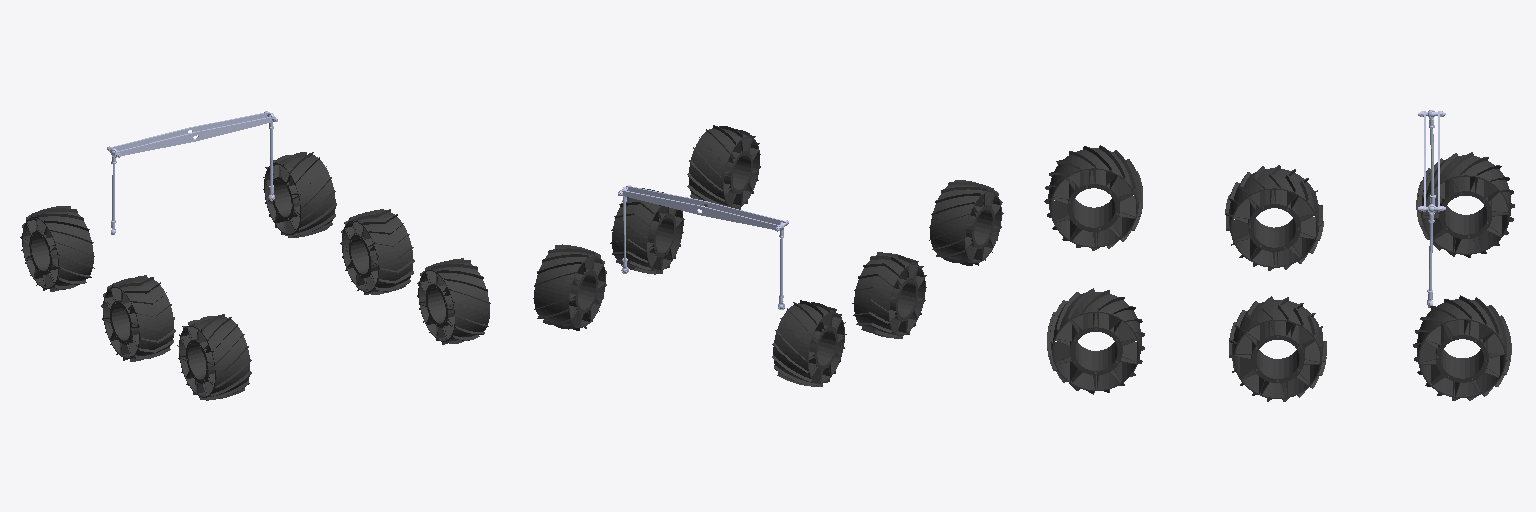
--- What the picture shows (computed from the rendered views, not written in the file) ---
The picture shows the robot from 3 angles, left to right: view 1: azimuth 30°, elevation 25°; view 2: azimuth 150°, elevation 25°; view 3: azimuth 270°, elevation 25°; orthographic projection.
Model roar_description with 18 links and 17 joints (17 continuous), rooted at Rover_base_link, posed all joints at 0.
Links seen in each view (by area): view 1: Wheel_LHS_Middle, Wheel_RHS_Back, Wheel_LHS_Front, Wheel_RHS_Front, Wheel_RHS_Middle, Wheel_LHS_Back, Differential_Bar; view 2: Wheel_RHS_Middle, Wheel_LHS_Back, Wheel_RHS_Front, Wheel_RHS_Back, Wheel_LHS_Front, Wheel_LHS_Middle, Differential_Bar; view 3: Wheel_LHS_Back, Wheel_RHS_Front, Wheel_LHS_Front, Wheel_LHS_Middle, Wheel_RHS_Middle, Wheel_RHS_Back, Differential_Bar.
Link boxes in pixels (x1,y1,x2,y2): Wheel_LHS_Middle: (340, 209, 414, 294); Wheel_RHS_Back: (20, 206, 94, 291); Wheel_LHS_Front: (417, 258, 490, 344); Wheel_RHS_Front: (177, 314, 251, 400); Wheel_RHS_Middle: (101, 275, 175, 361); Wheel_LHS_Back: (263, 152, 336, 237); Differential_Bar: (107, 111, 277, 157); Wheel_RHS_Middle: (852, 252, 926, 338); Wheel_LHS_Back: (533, 244, 606, 330); Wheel_RHS_Front: (929, 180, 1003, 265); Wheel_RHS_Back: (772, 300, 846, 386); Wheel_LHS_Front: (687, 125, 760, 209); Wheel_LHS_Middle: (610, 188, 684, 274); Differential_Bar: (618, 185, 788, 231); Wheel_LHS_Back: (1413, 295, 1511, 400); Wheel_RHS_Front: (1044, 145, 1142, 250); Wheel_LHS_Front: (1047, 288, 1144, 394); Wheel_LHS_Middle: (1229, 296, 1326, 401); Wheel_RHS_Middle: (1225, 165, 1323, 270); Wheel_RHS_Back: (1416, 152, 1514, 257); Differential_Bar: (1418, 111, 1445, 211).
Bounding box of the posed robot: 0.95 × 1.19 × 0.4918 m (x, y, z).
Meshes: 18 distinct files referenced, 13 mesh visuals loaded (13 binary STL); not drawn: 5 (reference not matched to a file when rendering).

robot.urdf — roar_description:
<?xml version="1.0" encoding="utf-8"?>
<!-- This URDF was automatically created by SolidWorks to URDF Exporter! Originally created by Stephen Brawner ([email redacted]) 
     Commit Version: 1.6.0-4-g7f85cfe  Build Version: 1.6.7995.38578
     For more information, please see http://wiki.ros.org/sw_urdf_exporter -->
<robot
  name="roar_description">
  <link
    name="Rover_base_link">
    <inertial>
      <origin
        xyz="-0.10329 -0.67716 0.33377"
        rpy="0 0 0" />
      <mass
        value="8.6832" />
      <inertia
        ixx="0.030287"
        ixy="-4.3566E-07"
        ixz="5.083E-08"
        iyy="0.029753"
        iyz="-0.00013063"
        izz="0.046393" />
    </inertial>
    <visual>
      <origin
        xyz="0 0 0"
        rpy="0 0 0" />
      <geometry>
        <mesh
          filename="package://roar_description/meshes/Rover_base_link.STL" />
      </geometry>
      <material
        name="">
        <color
          rgba="0.79216 0.81961 0.93333 1" />
      </material>
    </visual>
    <collision>
      <origin
        xyz="0 0 0"
        rpy="0 0 0" />
      <geometry>
        <mesh
          filename="package://roar_description/meshes/Rover_base_link.STL" />
      </geometry>
    </collision>
  </link>
  <link
    name="Rocker_RHS">
    <inertial>
      <origin
        xyz="-0.11035 -0.23779 -0.30847"
        rpy="0 0 0" />
      <mass
        value="1.8356" />
      <inertia
        ixx="0.004813"
        ixy="-4.6993E-05"
        ixz="-6.6289E-05"
        iyy="0.004275"
        iyz="-0.0011198"
        izz="0.0033199" />
    </inertial>
    <visual>
      <origin
        xyz="0 0 0"
        rpy="0 0 0" />
      <geometry>
        <mesh
          filename="package://roar_description/meshes/Rocker_RHS.STL" />
      </geometry>
      <material
        name="">
        <color
          rgba="0.79216 0.81961 0.93333 1" />
      </material>
    </visual>
    <collision>
      <origin
        xyz="0 0 0"
        rpy="0 0 0" />
      <geometry>
        <mesh
          filename="package://roar_description/meshes/Rocker_RHS.STL" />
      </geometry>
    </collision>
  </link>
  <joint
    name="Rocker_RHS_Joint"
    type="continuous">
    <origin
      xyz="-0.342128461708218 -0.748790527828184 0.328310051672545"
      rpy="1.58951247696815 0 0" />
    <parent
      link="Rover_base_link" />
    <child
      link="Rocker_RHS" />
    <axis
      xyz="1 0 0" />
    <limit
      lower="0"
      upper="0"
      effort="0"
      velocity="0" />
  </joint>
  <link
    name="Bogie_RHS">
    <inertial>
      <origin
        xyz="-0.12264709570478 -0.144766356668322 -0.00068545811134868"
        rpy="0 0 0" />
      <mass
        value="2.78385815952173" />
      <inertia
        ixx="0.00412564975619093"
        ixy="-9.32013111197439E-05"
        ixz="3.17047992982083E-07"
        iyy="0.00484283542847481"
        iyz="-0.000108703389871375"
        izz="0.00442726364411168" />
    </inertial>
    <visual>
      <origin
        xyz="0 0 0"
        rpy="0 0 0" />
      <geometry>
        <mesh
          filename="package://roar_description/meshes/Bogie_RHS.STL" />
      </geometry>
      <material
        name="">
        <color
          rgba="0.792156862745098 0.819607843137255 0.933333333333333 1" />
      </material>
    </visual>
    <collision>
      <origin
        xyz="0 0 0"
        rpy="0 0 0" />
      <geometry>
        <mesh
          filename="package://roar_description/meshes/Bogie_RHS.STL" />
      </geometry>
    </collision>
  </link>
  <joint
    name="Bogie_RHS_Joint"
    type="continuous">
    <origin
      xyz="-0.00465000000000421 -0.160601402178419 0.229362572400977"
      rpy="-0.136323947065984 0 0" />
    <parent
      link="Rocker_RHS" />
    <child
      link="Bogie_RHS" />
    <axis
      xyz="1 0 0" />
  </joint>
  <link
    name="Wheel_RHS_Front">
    <inertial>
      <origin
        xyz="0.0010418 0.00096372 -0.060016"
        rpy="0 0 0" />
      <mass
        value="1.5517" />
      <inertia
        ixx="0.0080032"
        ixy="1.1362E-16"
        ixz="-1.0017E-16"
        iyy="0.0080032"
        iyz="-1.0971E-10"
        izz="0.012594" />
    </inertial>
    <visual>
      <origin
        xyz="0 0 0"
        rpy="0 0 0" />
      <geometry>
        <mesh
          filename="package://roar_description/meshes/Wheel_RHS_Front.STL" />
      </geometry>
      <material
        name="">
        <color
          rgba="0.29804 0.29804 0.29804 1" />
      </material>
    </visual>
    <collision>
      <origin
        xyz="0 0 0"
        rpy="0 0 0" />
      <geometry>
        <mesh
          filename="package://roar_description/meshes/Wheel_RHS_Front.STL" />
      </geometry>
    </collision>
  </link>
  <joint
    name="Wheel_RHS_Front_Joint"
    type="continuous">
    <origin
      xyz="-0.105834821721214 -0.159803934037528 0.22991891696867"
      rpy="1.5707963267949 0.139345075944249 1.5707963267949" />
    <parent
      link="Bogie_RHS" />
    <child
      link="Wheel_RHS_Front" />
    <axis
      xyz="0 0 1" />
  </joint>
  <link
    name="Wheel_RHS_Middle">
    <inertial>
      <origin
        xyz="0.00154008863810107 0.000259883964275121 0.0600063600245663"
        rpy="0 0 0" />
      <mass
        value="1.5976653768916" />
      <inertia
        ixx="0.00836783341696577"
        ixy="5.65953534037433E-17"
        ixz="1.52747433337933E-16"
        iyy="0.0083677519799852"
        iyz="-6.22457043092441E-14"
        izz="0.0132446797996255" />
    </inertial>
    <visual>
      <origin
        xyz="0 0 0"
        rpy="0 0 0" />
      <geometry>
        <mesh
          filename="package://roar_description/meshes/Wheel_RHS_Middle.STL" />
      </geometry>
      <material
        name="">
        <color
          rgba="0.298039215686275 0.298039215686275 0.298039215686275 1" />
      </material>
    </visual>
    <collision>
      <origin
        xyz="0 0 0"
        rpy="0 0 0" />
      <geometry>
        <mesh
          filename="package://roar_description/meshes/Wheel_RHS_Middle.STL" />
      </geometry>
    </collision>
  </link>
  <joint
    name="Wheel_RHS_Middle_Joint"
    type="continuous">
    <origin
      xyz="-0.105843639709443 -0.161396945230976 -0.228803478522851"
      rpy="-1.5707963267949 -1.09872213581824 1.5707963267949" />
    <parent
      link="Bogie_RHS" />
    <child
      link="Wheel_RHS_Middle" />
    <axis
      xyz="0 0 1" />
  </joint>
  <link
    name="Wheel_RHS_Back">
    <inertial>
      <origin
        xyz="-0.00097567 0.0028304 -0.061734"
        rpy="0 0 0" />
      <mass
        value="1.5517" />
      <inertia
        ixx="0.0080033"
        ixy="0"
        ixz="-2.5005E-17"
        iyy="0.0080033"
        iyz="2.6947E-12"
        izz="0.012593" />
    </inertial>
    <visual>
      <origin
        xyz="0 0 0"
        rpy="0 0 0" />
      <geometry>
        <mesh
          filename="package://roar_description/meshes/Wheel_RHS_Back.STL" />
      </geometry>
      <material
        name="">
        <color
          rgba="0.29804 0.29804 0.29804 1" />
      </material>
    </visual>
    <collision>
      <origin
        xyz="0 0 0"
        rpy="0 0 0" />
      <geometry>
        <mesh
          filename="package://roar_description/meshes/Wheel_RHS_Back.STL" />
      </geometry>
    </collision>
  </link>
  <joint
    name="Wheel_RHS_Back_Joint"
    type="continuous">
    <origin
      xyz="-0.10876557361651 -0.321202810209238 -0.4587251531602"
      rpy="1.5707963267949 -0.655379363186682 1.5707963267949" />
    <parent
      link="Rocker_RHS" />
    <child
      link="Wheel_RHS_Back" />
    <axis
      xyz="0 0 1" />
  </joint>
  <link
    name="Differential_Ball_Lower_RHS">
    <inertial>
      <origin
        xyz="4.7129E-14 1.1152E-13 0.0066728"
        rpy="0 0 0" />
      <mass
        value="0.001389" />
      <inertia
        ixx="3.7675E-08"
        ixy="8.2718E-24"
        ixz="2.8561E-24"
        iyy="3.7675E-08"
        iyz="-1.8232E-24"
        izz="4.8965E-08" />
    </inertial>
    <visual>
      <origin
        xyz="0 0 0"
        rpy="0 0 0" />
      <geometry>
        <mesh
          filename="package://roar_description/meshes/Differential_Ball_Lower_RHS.STL" />
      </geometry>
      <material
        name="">
        <color
          rgba="0.79216 0.81961 0.93333 1" />
      </material>
    </visual>
    <collision>
      <origin
        xyz="0 0 0"
        rpy="0 0 0" />
      <geometry>
        <mesh
          filename="package://roar_description/meshes/Differential_Ball_Lower_RHS.STL" />
      </geometry>
    </collision>
  </link>
  <joint
    name="Differential_Ball_Lower_RHS_Joint"
    type="continuous">
    <origin
      xyz="-0.0202650110148073 -0.266050575961641 -0.375256033969497"
      rpy="-1.5707963267949 -0.89328811340906 1.5707963267949" />
    <parent
      link="Rocker_RHS" />
    <child
      link="Differential_Ball_Lower_RHS" />
    <axis
      xyz="0 0 1" />
  </joint>
  <link
    name="Rocker_LHS">
    <inertial>
      <origin
        xyz="0.110358958180568 -0.234165151998837 -0.311291711005079"
        rpy="0 0 0" />
      <mass
        value="1.83540597206276" />
      <inertia
        ixx="0.00481293371965366"
        ixy="4.62221873968512E-05"
        ixz="6.68295248794854E-05"
        iyy="0.0043011240898039"
        iyz="-0.00110832946556624"
        izz="0.00329380901891871" />
    </inertial>
    <visual>
      <origin
        xyz="0 0 0"
        rpy="0 0 0" />
      <geometry>
        <mesh
          filename="package://roar_description/meshes/Rocker_LHS.STL" />
      </geometry>
      <material
        name="">
        <color
          rgba="0.792156862745098 0.819607843137255 0.933333333333333 1" />
      </material>
    </visual>
    <collision>
      <origin
        xyz="0 0 0"
        rpy="0 0 0" />
      <geometry>
        <mesh
          filename="package://roar_description/meshes/Rocker_LHS.STL" />
      </geometry>
    </collision>
  </link>
  <joint
    name="Rocker_LHS_Joint"
    type="continuous">
    <origin
      xyz="0.146871538291774 -0.74879052782817 0.328310051672578"
      rpy="1.55091525568631 0 0" />
    <parent
      link="Rover_base_link" />
    <child
      link="Rocker_LHS" />
    <axis
      xyz="1 0 0" />
    <limit
      lower="0"
      upper="0"
      effort="0"
      velocity="0" />
    <mimic
      joint="Rocker_RHS_Joint"
      multiplier="-1"
      offset="0" />
  </joint>
  <link
    name="Bogie_LHS">
    <inertial>
      <origin
        xyz="0.124529288562566 -0.149452173622745 -0.000603490811736385"
        rpy="0 0 0" />
      <mass
        value="2.70951335930722" />
      <inertia
        ixx="0.00386569944297285"
        ixy="9.32225081974001E-05"
        ixz="-3.30364142001628E-07"
        iyy="0.00465186552386934"
        iyz="-1.18116492207253E-06"
        izz="0.0043128828389626" />
    </inertial>
    <visual>
      <origin
        xyz="0 0 0"
        rpy="0 0 0" />
      <geometry>
        <mesh
          filename="package://roar_description/meshes/Bogie_LHS.STL" />
      </geometry>
      <material
        name="">
        <color
          rgba="0.792156862745098 0.819607843137255 0.933333333333333 1" />
      </material>
    </visual>
    <collision>
      <origin
        xyz="0 0 0"
        rpy="0 0 0" />
      <geometry>
        <mesh
          filename="package://roar_description/meshes/Bogie_LHS.STL" />
      </geometry>
    </collision>
  </link>
  <joint
    name="Bogie_LHS_Joint"
    type="continuous">
    <origin
      xyz="0.00464999999999113 -0.160601402178327 0.229362572400932"
      rpy="-0.0249150726543989 0 0" />
    <parent
      link="Rocker_LHS" />
    <child
      link="Bogie_LHS" />
    <axis
      xyz="1 0 0" />
  </joint>
  <link
    name="Wheel_LHS_Front">
    <inertial>
      <origin
        xyz="-0.000918933167155078 0.00166662816846197 0.0617344149234745"
        rpy="0 0 0" />
      <mass
        value="1.55166626304692" />
      <inertia
        ixx="0.00800333368012849"
        ixy="5.09855106670536E-17"
        ixz="-6.68841717194124E-17"
        iyy="0.00800325326915811"
        iyz="2.69482289387701E-12"
        izz="0.0125934306153829" />
    </inertial>
    <visual>
      <origin
        xyz="0 0 0"
        rpy="0 0 0" />
      <geometry>
        <mesh
          filename="package://roar_description/meshes/Wheel_LHS_Front.STL" />
      </geometry>
      <material
        name="">
        <color
          rgba="0.298039215686275 0.298039215686275 0.298039215686275 1" />
      </material>
    </visual>
    <collision>
      <origin
        xyz="0 0 0"
        rpy="0 0 0" />
      <geometry>
        <mesh
          filename="package://roar_description/meshes/Wheel_LHS_Front.STL" />
      </geometry>
    </collision>
  </link>
  <joint
    name="Wheel_LHS_Front_Joint"
    type="continuous">
    <origin
      xyz="0.104115573616492 -0.159803934036338 0.22991891696985"
      rpy="-1.5707963267949 -1.52600018303191 -1.5707963267949" />
    <parent
      link="Bogie_LHS" />
    <child
      link="Wheel_LHS_Front" />
    <axis
      xyz="0 0 1" />
  </joint>
  <link
    name="Wheel_LHS_Middle">
    <inertial>
      <origin
        xyz="-0.0016383 -0.00019918 -0.060006"
        rpy="0 0 0" />
      <mass
        value="1.5977" />
      <inertia
        ixx="0.0083678"
        ixy="6.5052E-19"
        ixz="-1.2837E-16"
        iyy="0.0083678"
        iyz="-6.1838E-14"
        izz="0.013245" />
    </inertial>
    <visual>
      <origin
        xyz="0 0 0"
        rpy="0 0 0" />
      <geometry>
        <mesh
          filename="package://roar_description/meshes/Wheel_LHS_Middle.STL" />
      </geometry>
      <material
        name="">
        <color
          rgba="0.29804 0.29804 0.29804 1" />
      </material>
    </visual>
    <collision>
      <origin
        xyz="0 0 0"
        rpy="0 0 0" />
      <geometry>
        <mesh
          filename="package://roar_description/meshes/Wheel_LHS_Middle.STL" />
      </geometry>
    </collision>
  </link>
  <joint
    name="Wheel_LHS_Middle_Joint"
    type="continuous">
    <origin
      xyz="0.105843838897974 -0.16139694523254 -0.228803478521815"
      rpy="-1.5707963267949 -0.571115560263607 1.5707963267949" />
    <parent
      link="Bogie_LHS" />
    <child
      link="Wheel_LHS_Middle" />
    <axis
      xyz="0 0 1" />
  </joint>
  <link
    name="Wheel_LHS_Back">
    <inertial>
      <origin
        xyz="0.00288644549271561 -0.00187235731581453 -0.0600156448463666"
        rpy="0 0 0" />
      <mass
        value="1.55167119278223" />
      <inertia
        ixx="0.00800323403290189"
        ixy="4.00070601647151E-16"
        ixz="5.08002380718721E-16"
        iyy="0.0080031536218179"
        iyz="-1.09712644551399E-10"
        izz="0.012593506982443" />
    </inertial>
    <visual>
      <origin
        xyz="0 0 0"
        rpy="0 0 0" />
      <geometry>
        <mesh
          filename="package://roar_description/meshes/Wheel_LHS_Back.STL" />
      </geometry>
      <material
        name="">
        <color
          rgba="0.298039215686275 0.298039215686275 0.298039215686275 1" />
      </material>
    </visual>
    <collision>
      <origin
        xyz="0 0 0"
        rpy="0 0 0" />
      <geometry>
        <mesh
          filename="package://roar_description/meshes/Wheel_LHS_Back.STL" />
      </geometry>
    </collision>
  </link>
  <joint
    name="Wheel_LHS_Back_Joint"
    type="continuous">
    <origin
      xyz="0.110484821721209 -0.321202810209241 -0.458725153160208"
      rpy="-1.5707963267949 1.10519374991265 1.5707963267949" />
    <parent
      link="Rocker_LHS" />
    <child
      link="Wheel_LHS_Back" />
    <axis
      xyz="0 0 1" />
  </joint>
  <link
    name="Differential_Ball_Lower_LHS">
    <inertial>
      <origin
        xyz="-6.44484465794903E-14 8.88317197578203E-14 -0.00667281115870977"
        rpy="0 0 0" />
      <mass
        value="0.0013890059261901" />
      <inertia
        ixx="3.76748983672573E-08"
        ixy="-1.65436122510606E-24"
        ixz="5.8838619724424E-25"
        iyy="3.76748983672573E-08"
        iyz="-3.41761299081095E-25"
        izz="4.89650334337632E-08" />
    </inertial>
    <visual>
      <origin
        xyz="0 0 0"
        rpy="0 0 0" />
      <geometry>
        <mesh
          filename="package://roar_description/meshes/Differential_Ball_Lower_LHS.STL" />
      </geometry>
      <material
        name="">
        <color
          rgba="0.792156862745098 0.819607843137255 0.933333333333333 1" />
      </material>
    </visual>
    <collision>
      <origin
        xyz="0 0 0"
        rpy="0 0 0" />
      <geometry>
        <mesh
          filename="package://roar_description/meshes/Differential_Ball_Lower_LHS.STL" />
      </geometry>
    </collision>
  </link>
  <joint
    name="Differential_Ball_Lower_LHS_Joint"
    type="continuous">
    <origin
      xyz="0.0201543776825805 -0.26163078737498 -0.378350804277686"
      rpy="1.5707963267949 -1.38512229147901 -1.5707963267949" />
    <parent
      link="Rocker_LHS" />
    <child
      link="Differential_Ball_Lower_LHS" />
    <axis
      xyz="0 0 1" />
  </joint>
  <link
    name="Differential_Bar">
    <inertial>
      <origin
        xyz="-7.57005569340663E-13 5.28331267624083E-11 0.0350000000000001"
        rpy="0 0 0" />
      <mass
        value="0.135555879271076" />
      <inertia
        ixx="9.44653320159656E-06"
        ixy="-2.14055272019482E-05"
        ixz="4.05288563062036E-20"
        iyy="0.00263596000016183"
        iyz="1.65610283725437E-18"
        izz="0.00263904285494195" />
    </inertial>
    <visual>
      <origin
        xyz="0 0 0"
        rpy="0 0 0" />
      <geometry>
        <mesh
          filename="package://roar_description/meshes/Differential_Bar.STL" />
      </geometry>
      <material
        name="">
        <color
          rgba="0.792156862745098 0.819607843137255 0.933333333333333 1" />
      </material>
    </visual>
    <collision>
      <origin
        xyz="0 0 0"
        rpy="0 0 0" />
      <geometry>
        <mesh
          filename="package://roar_description/meshes/Differential_Bar.STL" />
      </geometry>
    </collision>
  </link>
  <joint
    name="Differential_Bar_Joint"
    type="continuous">
    <origin
      xyz="-0.09762846170823 -0.336980527828184 0.328245301477628"
      rpy="1.5707963267949 0.0268075606727418 0" />
    <parent
      link="Rover_base_link" />
    <child
      link="Differential_Bar" />
    <axis
      xyz="0 0 1" />
  </joint>
  <link
    name="Differential_Ball_Upper_LHS">
    <inertial>
      <origin
        xyz="-3.20576898360514E-14 -2.22044604925031E-14 0.00667281115870966"
        rpy="0 0 0" />
      <mass
        value="0.0013890059261901" />
      <inertia
        ixx="3.76748983672573E-08"
        ixy="-5.99705944100945E-24"
        ixz="5.76518140206913E-24"
        iyy="3.76748983672573E-08"
        iyz="-2.96971137301371E-24"
        izz="4.89650334337632E-08" />
    </inertial>
    <visual>
      <origin
        xyz="0 0 0"
        rpy="0 0 0" />
      <geometry>
        <mesh
          filename="package://roar_description/meshes/Differential_Ball_Upper_LHS.STL" />
      </geometry>
      <material
        name="">
        <color
          rgba="0.792156862745098 0.819607843137255 0.933333333333333 1" />
      </material>
    </visual>
    <collision>
      <origin
        xyz="0 0 0"
        rpy="0 0 0" />
      <geometry>
        <mesh
          filename="package://roar_description/meshes/Differential_Ball_Upper_LHS.STL" />
      </geometry>
    </collision>
  </link>
  <joint
    name="Differential_Ball_Upper_LHS_Joint"
    type="continuous">
    <origin
      xyz="0.271320990906475 0.00221106163328205 0.0283250000000001"
      rpy="0 0 -0.0317796979239119" />
    <parent
      link="Differential_Bar" />
    <child
      link="Differential_Ball_Upper_LHS" />
    <axis
      xyz="0 0 1" />
  </joint>
  <link
    name="Differential_Rod_LHS">
    <inertial>
      <origin
        xyz="-0.00454323574979903 -0.132162802826175 0.00237831038207131"
        rpy="0 0 0" />
      <mass
        value="0.01918380501633" />
      <inertia
        ixx="4.06781373946889E-05"
        ixy="1.43649262366471E-08"
        ixz="6.32888945509674E-09"
        iyy="4.18079212876761E-07"
        iyz="-7.46139977822265E-07"
        izz="4.06834280286997E-05" />
    </inertial>
    <visual>
      <origin
        xyz="0 0 0"
        rpy="0 0 0" />
      <geometry>
        <mesh
          filename="package://roar_description/meshes/Differential_Rod_LHS.STL" />
      </geometry>
      <material
        name="">
        <color
          rgba="0.792156862745098 0.819607843137255 0.933333333333333 1" />
      </material>
    </visual>
    <collision>
      <origin
        xyz="0 0 0"
        rpy="0 0 0" />
      <geometry>
        <mesh
          filename="package://roar_description/meshes/Differential_Rod_LHS.STL" />
      </geometry>
    </collision>
  </link>
  <joint
    name="Differential_Rod_LHS_To_Differential_Bar_Joint"
    type="continuous">
    <origin
      xyz="0 0 0"
      rpy="-0.0384204414035981 0.761514760331948 0.0447584714591076" />
    <parent
      link="Differential_Ball_Upper_LHS" />
    <child
      link="Differential_Rod_LHS" />
    <axis
      xyz="0.000361364375335417 -0.999828521547696 -0.0185147756004935" />
  </joint>
  <link
    name="Differential_Ball_Upper_RHS">
    <inertial>
      <origin
        xyz="0.00413056225431524 -0.00362334705600029 0.000142145411143546"
        rpy="0 0 0" />
      <mass
        value="0.0013890059261901" />
      <inertia
        ixx="3.76748983672572E-08"
        ixy="0"
        ixz="7.34040506304342E-25"
        iyy="3.76748983672572E-08"
        iyz="-1.01290373983968E-24"
        izz="4.89650334337632E-08" />
    </inertial>
    <visual>
      <origin
        xyz="0 0 0"
        rpy="0 0 0" />
      <geometry>
        <mesh
          filename="package://roar_description/meshes/Differential_Ball_Upper_RHS.STL" />
      </geometry>
      <material
        name="">
        <color
          rgba="0.792156862745098 0.819607843137255 0.933333333333333 1" />
      </material>
    </visual>
    <collision>
      <origin
        xyz="0 0 0"
        rpy="0 0 0" />
      <geometry>
        <mesh
          filename="package://roar_description/meshes/Differential_Ball_Upper_RHS.STL" />
      </geometry>
    </collision>
  </link>
  <joint
    name="Differential_Ball_Upper_RHS_Joint"
    type="continuous">
    <origin
      xyz="-0.271129466344517 -0.00770228251455707 0.0348556657475662"
      rpy="0 0 2.32573761589665" />
    <parent
      link="Differential_Bar" />
    <child
      link="Differential_Ball_Upper_RHS" />
    <axis
      xyz="0 0 1" />
  </joint>
  <link
    name="Differential_Rod_RHS">
    <inertial>
      <origin
        xyz="0.000143673404240707 -0.12648282008794 -0.00232787834320419"
        rpy="0 0 0" />
      <mass
        value="0.0191838051653016" />
      <inertia
        ixx="4.06781373929421E-05"
        ixy="1.43649088619321E-08"
        ixz="6.32889134687707E-09"
        iyy="4.18079213906288E-07"
        iyz="-7.46139960866484E-07"
        izz="4.06834280298205E-05" />
    </inertial>
    <visual>
      <origin
        xyz="0 0 0"
        rpy="0 0 0" />
      <geometry>
        <mesh
          filename="package://roar_description/meshes/Differential_Rod_RHS.STL" />
      </geometry>
      <material
        name="">
        <color
          rgba="0.792156862745098 0.819607843137255 0.933333333333333 1" />
      </material>
    </visual>
    <collision>
      <origin
        xyz="0 0 0"
        rpy="0 0 0" />
      <geometry>
        <mesh
          filename="package://roar_description/meshes/Differential_Rod_RHS.STL" />
      </geometry>
    </collision>
  </link>
  <joint
    name="Differential_Rod_RHS_To_Differential_Bar_Joint"
    type="continuous">
    <origin
      xyz="0 0 0"
      rpy="3.08690958798694 -1.20144396020161 0.875935706725357" />
    <parent
      link="Differential_Ball_Upper_RHS" />
    <child
      link="Differential_Rod_RHS" />
    <axis
      xyz="0.000361364374657969 -0.999828521547702 -0.0185147756001619" />
  </joint>


  <!-- ROS Control plugin for Gazebo-->
  <gazebo>
    <plugin name="gazebo_ros_control" filename="libgazebo_ros_control.so">
      <robotNamespace>/roar_model</robotNamespace>
    </plugin>
  </gazebo>
  
  <!--transmission-->
  <transmission name="Wheel_LHS_Front_Transmission">
    <type>transmission_interface/SimpleTransmission</type>
    <joint name="Wheel_LHS_Front_Joint">
      <hardwareInterface>hardware_interface/VelocityJointInterface</hardwareInterface>
    </joint>
    <actuator name="Wheel_LHS_Front_Motor">
      <mechanicalReduction>1</mechanicalReduction>
    </actuator>
  </transmission>

  <transmission name="Wheel_LHS_Middle_Transmission">
    <type>transmission_interface/SimpleTransmission</type>
    <joint name="Wheel_LHS_Middle_Joint">
      <hardwareInterface>hardware_interface/VelocityJointInterface</hardwareInterface>
    </joint>
    <actuator name="Wheel_LHS_Middle_Motor">
      <mechanicalReduction>1</mechanicalReduction>
    </actuator>
  </transmission>

  <transmission name="Wheel_LHS_Back_Transmission">
    <type>transmission_interface/SimpleTransmission</type>
    <joint name="Wheel_LHS_Back_Joint">
      <hardwareInterface>hardware_interface/VelocityJointInterface</hardwareInterface>
    </joint>
    <actuator name="Wheel_LHS_Back_Motor">
      <mechanicalReduction>1</mechanicalReduction>
    </actuator>
  </transmission>

  <transmission name="Wheel_RHS_Front_Transmission">
    <type>transmission_interface/SimpleTransmission</type>
    <joint name="Wheel_RHS_Front_Joint">
      <hardwareInterface>hardware_interface/VelocityJointInterface</hardwareInterface>
    </joint>
    <actuator name="Wheel_RHS_Front_Motor">
      <mechanicalReduction>1</mechanicalReduction>
    </actuator>
  </transmission>

  <transmission name="Wheel_RHS_Middle_Transmission">
    <type>transmission_interface/SimpleTransmission</type>
    <joint name="Wheel_RHS_Middle_Joint">
      <hardwareInterface>hardware_interface/VelocityJointInterface</hardwareInterface>
    </joint>
    <actuator name="Wheel_RHS_Middle_Motor">
      <mechanicalReduction>1</mechanicalReduction>
    </actuator>
  </transmission>

  <transmission name="Wheel_RHS_Back_Transmission">
    <type>transmission_interface/SimpleTransmission</type>
    <joint name="Wheel_RHS_Back_Joint">
      <hardwareInterface>hardware_interface/VelocityJointInterface</hardwareInterface>
    </joint>
    <actuator name="Wheel_RHS_Back_Motor">
      <mechanicalReduction>1</mechanicalReduction>
    </actuator>
  </transmission>

</robot>
